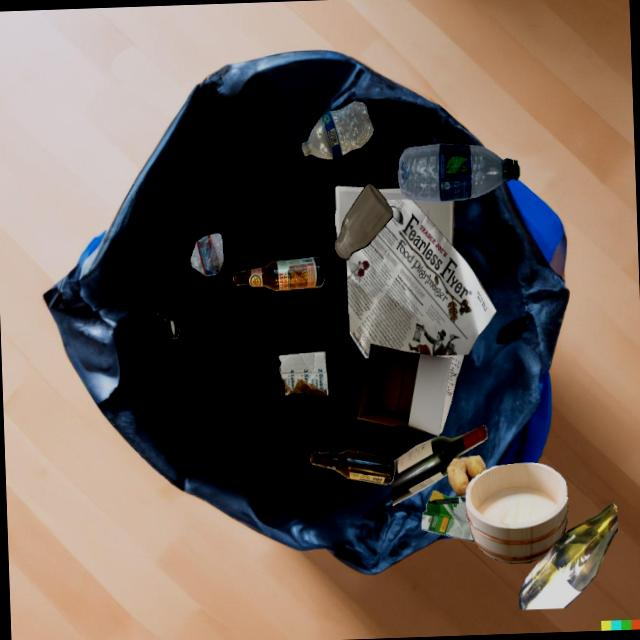biowaste: (446, 455, 486, 495)
cardboard: (357, 343, 451, 436), (421, 490, 474, 542), (278, 351, 329, 398)
combustible waste: (465, 462, 568, 563)
glass: (518, 503, 617, 609), (391, 424, 487, 505), (334, 183, 392, 260), (233, 257, 324, 290), (310, 449, 394, 484)
paper: (346, 199, 496, 358), (337, 188, 435, 239), (433, 354, 464, 433), (334, 185, 364, 239), (413, 200, 454, 223), (435, 223, 454, 246)
plastic: (397, 143, 519, 201), (301, 101, 373, 159), (152, 279, 185, 338), (190, 233, 223, 275)
